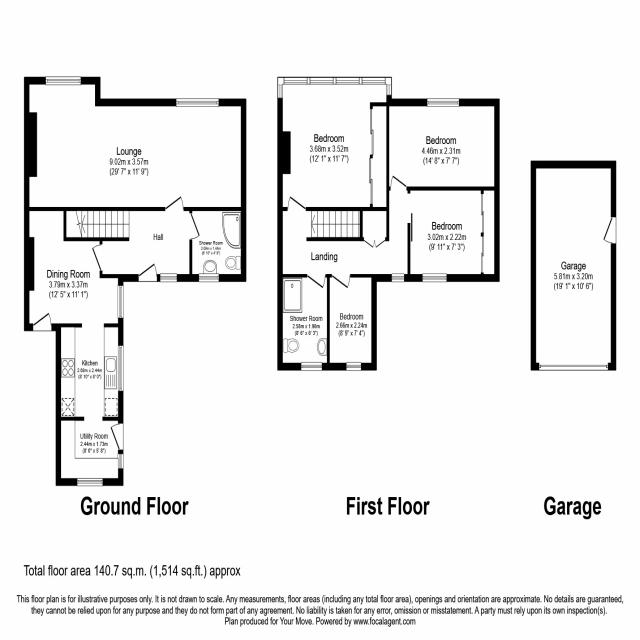DOOR: (110, 422, 124, 451), (32, 311, 52, 331), (138, 262, 157, 282), (91, 243, 103, 272), (189, 212, 201, 241), (164, 195, 184, 211), (287, 195, 306, 211), (331, 274, 351, 289), (307, 274, 326, 289), (390, 175, 407, 191)
ROOM: (24, 76, 247, 212), (24, 207, 124, 486), (277, 77, 392, 211), (386, 98, 500, 191), (408, 186, 500, 282), (327, 274, 377, 371)
SLIDING DOOR: (407, 192, 413, 225)
WINDOW: (277, 76, 392, 99), (176, 98, 219, 107), (45, 76, 81, 86), (426, 98, 460, 108), (118, 345, 124, 392), (77, 477, 103, 487), (422, 273, 447, 283), (117, 285, 124, 319), (198, 273, 219, 283), (301, 362, 322, 371), (160, 273, 178, 283), (391, 273, 405, 283), (346, 362, 361, 371), (117, 453, 124, 469)
